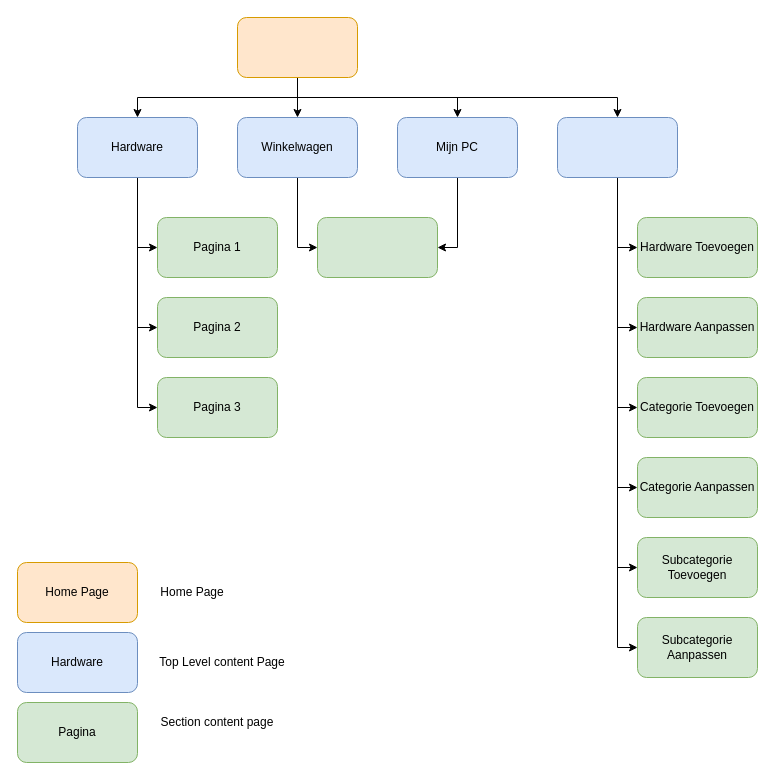
Image size: 775x780. Some labels were removed from this diagram. Each missing label, with the centre of its shape:
Admin: (x=617, y=147)
Afrekenen: (x=377, y=247)
Home: (x=297, y=47)
